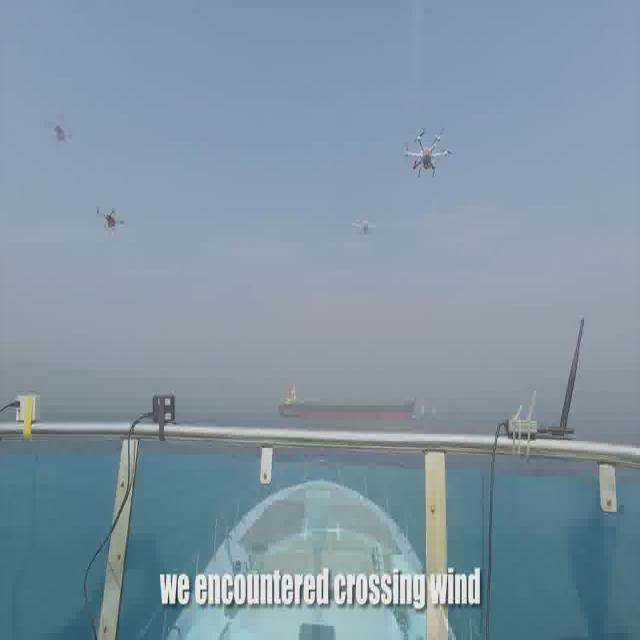drone: (402, 126, 454, 184), (96, 206, 125, 234), (50, 122, 71, 146)
